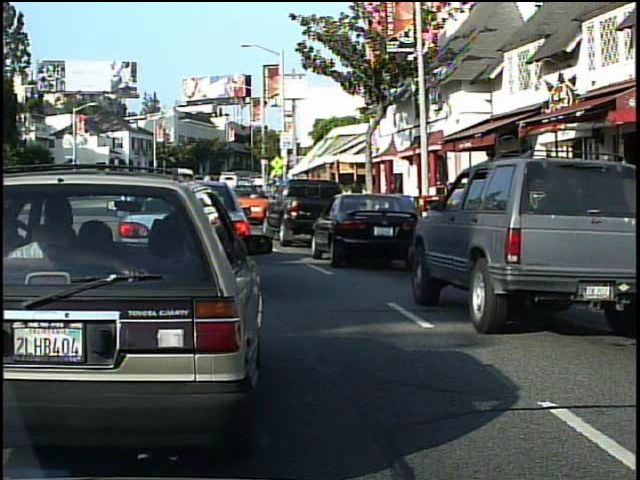person: (588, 147, 623, 236)
